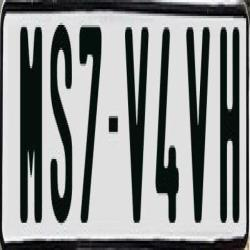4: (155, 25, 180, 223)
7: (79, 25, 102, 221)
H: (219, 23, 240, 229)
M: (20, 28, 44, 234)
S: (49, 23, 74, 225)
V: (124, 23, 151, 221), (186, 27, 211, 232)
